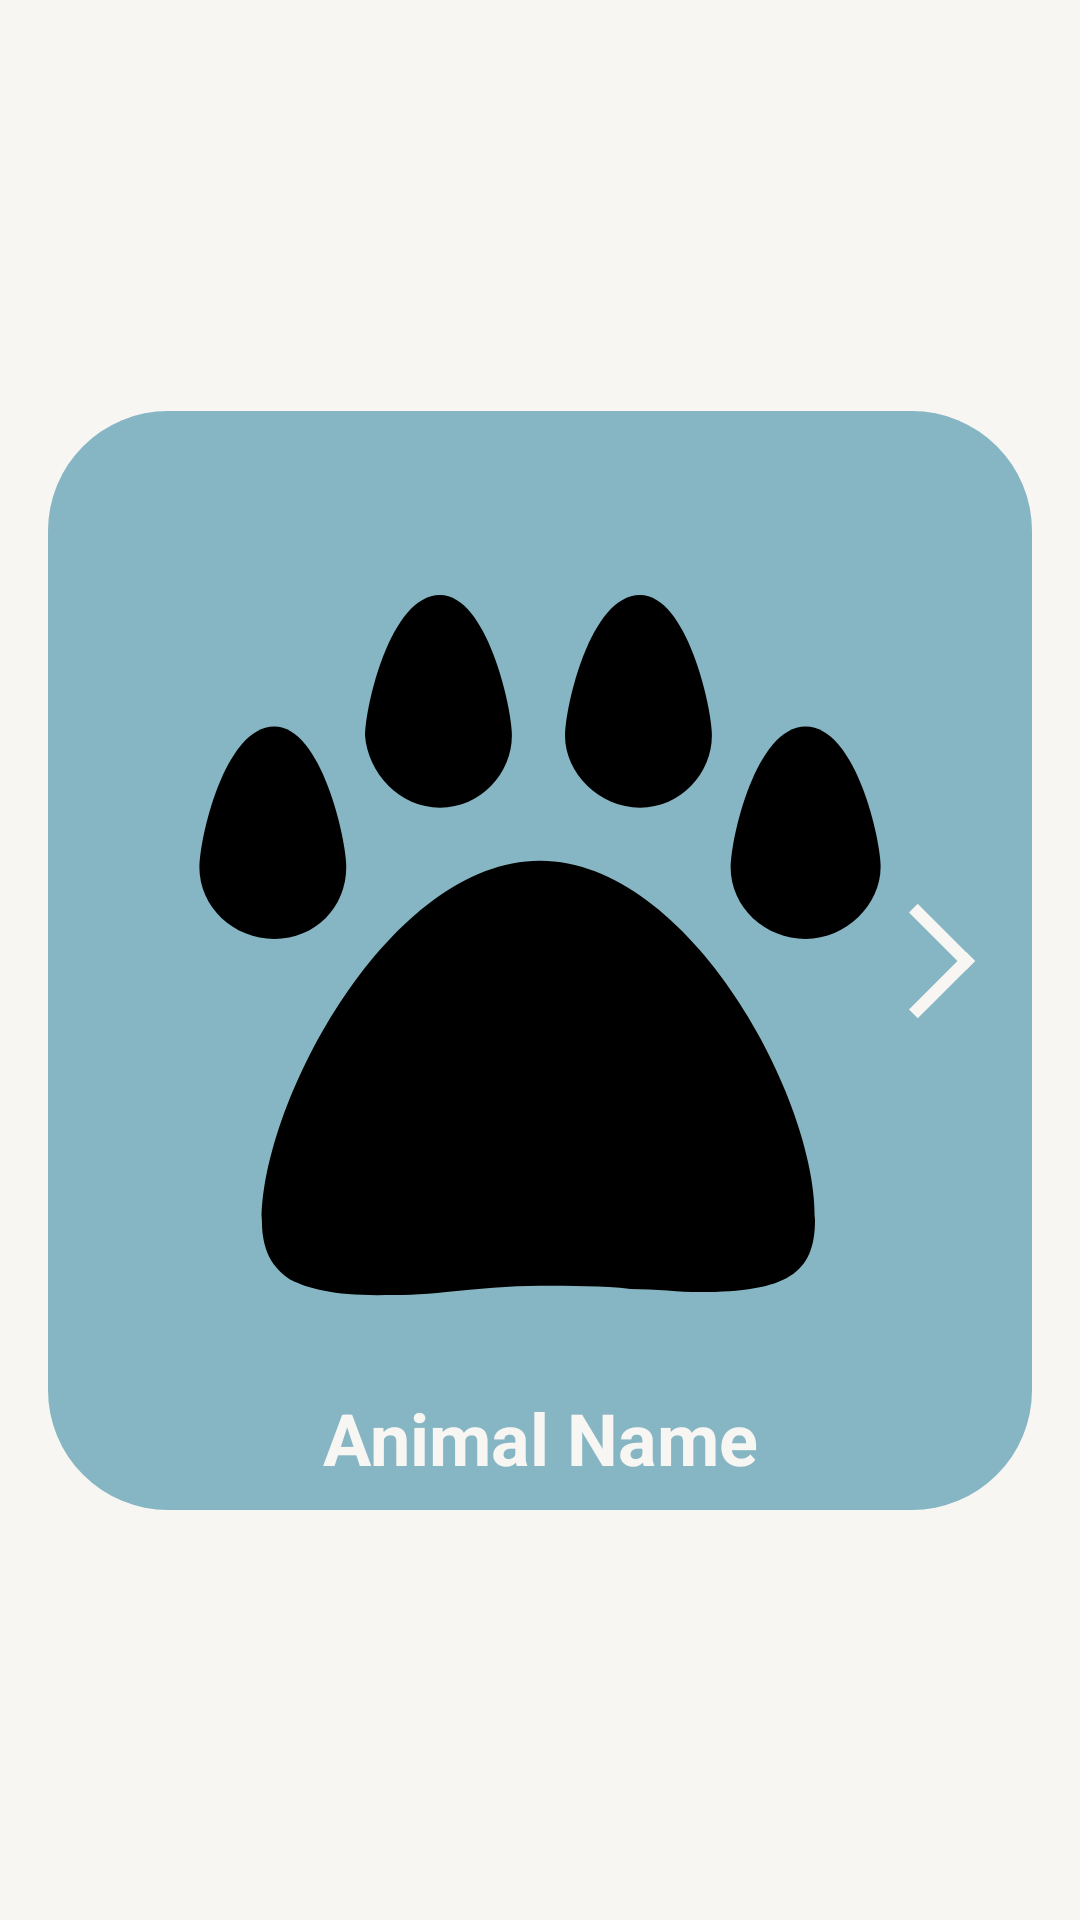

Named icons in this screenshot (1080*1920) and their bounding boxes, (x1, y1, x2, y2):
next: (909, 904, 975, 1018)
